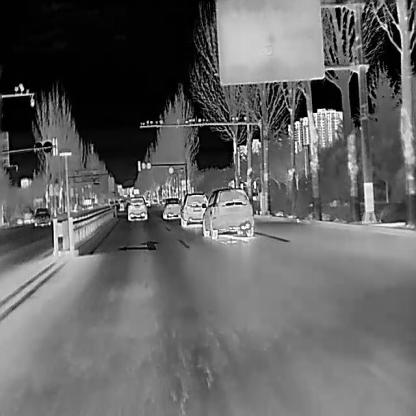car: (200, 186, 253, 238), (179, 191, 207, 226), (126, 194, 146, 219), (161, 196, 180, 218), (32, 206, 51, 225)
